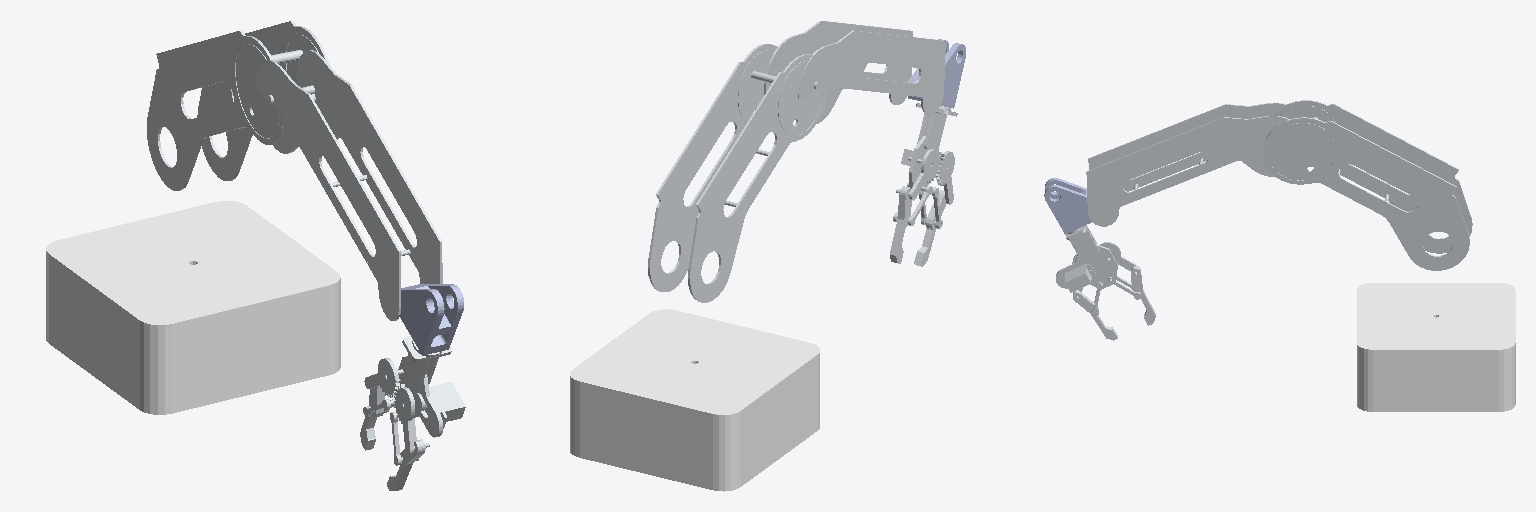
The robot description file, URDF, robot "dobot_magician":

<robot name="dobot_magician">

<!--- ________________________________________________________-->
<!--- ____________________LINK 0 - BASE_LINK__________________-->
<!--- ________________________________________________________--> 

  <link name="base_link">

    <visual>
      <origin xyz="0 0 0" rpy="0 0 0" />
      <geometry>
       <mesh filename="package://dobot_magician_pkg/meshes/Dobot_magician_DAE/base.dae"/>
      </geometry>
      <material name="Aluminum 6061">
        <color  rgba="1 1 1 1" />
      </material>
    </visual>

    <inertial>
      <origin xyz="0 0 0" rpy="0 0 0" />
      <mass   value="3.913" />
      <inertia ixx="0.0085988" ixy="9.7318E-20" ixz="6.3149E-19" iyy="0.014441" iyz="-5.4725E-20" izz="0.0085988" />
    </inertial>
    
    <collision>
      <origin xyz="0 0 0" rpy="0 0 0" />
      <geometry>
         <mesh filename="package://dobot_magician_pkg/meshes/Dobot_magician_DAE/base.dae"/>
      </geometry>
    </collision>

  </link>

<!--- ________________________________________________________-->
<!--- ____________________JOINT-BASE__________________________-->
<!--- ________________________________________________________--> 

<joint name="joint_base" type="revolute">

    <origin xyz="0 0 0" rpy="0 0 0" />
    <parent link="base_link" />
    <child  link="sub_base_link_1" />
    <axis   xyz="0 0 1" />
    <limit effort="0" velocity="0.1" lower="-3.18" upper="3.18"/>

  </joint>

<!--- ________________________________________________________-->
<!--- ____________________SUB-BASE-LINK 1_____________________-->
<!--- ________________________________________________________--> 

  <link name="sub_base_link_1">

    <visual>
      <origin xyz="0 0 0.037" rpy="0 0 0" />
      <geometry>
       <mesh filename="package://dobot_magician_pkg/meshes/Dobot_magician_DAE/sub_base_link_1.dae"/>
      </geometry>
      <material name="Aluminum 6061">
        <color  rgba="1 0 0 1" />
      </material>
    </visual>   

    <inertial>
      <origin xyz="0 0.005 0" rpy="0 0 0" />
      <mass   value="0.30307" />
      <inertia ixx="0.00027735" ixy="1.3133E-19" ixz="-5.0822E-21" iyy="0.00054731" iyz="-4.6255E-20" izz="0.00027502" />
    </inertial>    

    <collision>
      <origin xyz="7.0899E-17 0.005 2.3801E-17" rpy="0 0 0"  />
      <geometry>
         <mesh filename="package://dobot_magician_pkg/meshes/Dobot_magician_DAE/sub_base_link_1.dae"/>
      </geometry>
    </collision>

  </link>

<!--- ________________________________________________________-->
<!--- ____________________JOINT 1_____________________________-->
<!--- ________________________________________________________--> 

  <joint name="joint_1" type="fixed">

    <origin xyz="0 0 0.097" rpy="0 0 1.55" />
    <parent link="sub_base_link_1" />
    <child  link="link_1_1" />
    <axis   xyz="0 1 0" />
    <limit  effort="0" velocity="0" />

  </joint>

<!--- ________________________________________________________-->
<!--- ____________________LINK 1______________________________-->
<!--- ________________________________________________________--> 


  <link name="link_1_1">

    <visual>
      <origin xyz="0 0.01 0.035" rpy="0 0 0" />
      <geometry>
        <mesh filename="package://dobot_magician_pkg/meshes/Dobot_magician_DAE/link_1.dae"/>
      </geometry>
      <material name="Aluminum 6061">
        <color  rgba="0.89804 0.91765 0.92941 1" />
      </material>
    </visual>

    <inertial>
      <origin xyz="0.08 0.038621 0.0044984" rpy="0 0 0" />
      <mass   value="0.096048" />
      <inertia ixx="0.00011245" ixy="-2.2324E-13" ixz="-1.3696E-12" iyy="3.1935E-05" iyz="7.8821E-06" izz="0.00013863" />
    </inertial>    

    <collision>
      <origin xyz="0 0 0" rpy="0 0 0" />
      <geometry>
        <mesh filename="package://dobot_magician_pkg/meshes/Dobot_magician_DAE/link_1.dae"/>
      </geometry>
    </collision>

  </link>

<!--- ________________________________________________________-->
<!--- ____________________JOINT 2_____________________________-->
<!--- ________________________________________________________--> 

  <joint name="joint_2" type="revolute">

    <origin xyz="0 0 0.026" rpy="0 0 0" />
    <parent link="link_1_1" />
    <child  link="link_2" />
    <axis   xyz="0 1 0" />
    <limit effort="0" velocity="0" lower="-2.18" upper="-0.65"/>

   </joint>

<!--- ________________________________________________________-->
<!--- ____________________LINK 2______________________________-->
<!--- ________________________________________________________--> 

   <link name="link_2">

    
   <visual>
      <origin xyz="0 -0.0745 0" rpy="0 1 0" />
      <geometry>
          <mesh filename="package://dobot_magician_pkg/meshes/Dobot_con_gripper/Link_2.dae"/>
      </geometry>
      <material name="Aluminum 6061">
        <color  rgba="0.89804 0.91765 0.92941 1" />
      </material>
    </visual>

   <inertial>
      <origin xyz="-0.021209 0.001 -0.0829" rpy="0 0 0" />
      <mass   value="0.057165" />
      <inertia ixx="0.00021101" ixy="-6.7763E-21" ixz="-1.2446E-05" iyy="0.00023578" iyz="-4.1822E-20" izz="2.4809E-05" />
    </inertial>   

    <collision>
      <origin xyz="0 0 0" rpy="0 0 0" />
      <geometry>
          <mesh filename="package://dobot_magician_pkg/meshes/Dobot_magician_DAE/link_2.dae"/>
      </geometry>
    </collision>

  </link>

<!--- ________________________________________________________-->
<!--- ____________________JOINT 3_____________________________-->
<!--- ________________________________________________________--> 

<joint name="joint_3" type="revolute">

    <origin xyz="0.065 0.0135 0.16" rpy="0 2 0" />
    <parent link="link_2" />
    <child  link="link_3" />
    <axis   xyz="0 1 0" />
    <limit effort="0" velocity="0" lower="-2.18" upper="-1.26"/>

  </joint>

<!--- ________________________________________________________-->
<!--- ____________________LINK 3______________________________-->
<!--- ________________________________________________________--> 


<link name="link_3">

    
    <visual>
      <origin xyz="0 0 0" rpy="0 0 0" />
      <geometry>
        <mesh filename="package://dobot_magician_pkg/meshes/Dobot_con_gripper/Link_3.dae"/>
      </geometry>
      <material name="Aluminum 6061">
        <color  rgba="0.89804 0.91765 0.92941 1" />
      </material>
    </visual>

    <inertial>
      <origin xyz="0.074376 0.016081 0.003" rpy="0 0 0" />
      <mass   value="0.055855" />
      <inertia ixx="2.0397E-05" ixy="-2.481E-05" ixz="-5.0657E-20" iyy="0.0002562" iyz="-7.6233E-21" izz="0.00027655" />
    </inertial>    

    <collision>
      <origin xyz="0 0 0" rpy="0 0 0" />
      <geometry>
    <mesh filename="package://dobot_magician_pkg/meshes/Dobot_magician_DAE/link_3.dae"/>
      </geometry>
    </collision>

  </link>

<!--- ________________________________________________________-->
<!--- ____________________JOINT 4_____________________________-->
<!--- ________________________________________________________--> 

<joint name="joint_4" type="revolute">

    <origin xyz="-0.135 -0.0005 0.12" rpy="0 -1 0" />
    <parent link="link_3" />
    <child  link="link_4" />
    <axis   xyz="0 1 0" />
    <limit effort="0" velocity="0" lower="1.30" upper="2.01"/>

  </joint>

<!--- ________________________________________________________-->
<!--- ____________________LINK 4______________________________-->
<!--- ________________________________________________________--> 

<link name="link_4">
    
    <visual>
      <origin xyz="0 -0.005 0" rpy="1.55 0 3.15" />
      <geometry>
        <mesh filename="package://dobot_magician_pkg/meshes/Dobot_magician_DAE/link_4.dae"/>
      </geometry>
      <material name="Aluminum 6061">
        <color  rgba="0.79216 0.81961 0.93333 1" />
      </material>
    </visual>

    <inertial>
      <origin xyz="0.018456 0.017513 0.01" rpy="0 0 0" />
      <mass value="0.022983" />
      <inertia ixx="4.329E-06" ixy="-1.0614E-06" ixz="7.5439E-22" iyy="4.7894E-06" iyz="6.6174E-22" izz="7.1397E-06" />
    </inertial>    

    <collision>
      <origin xyz="0 0 0" rpy="0 0 0" />
      <geometry>
        <mesh filename="package://dobot_magician_pkg/meshes/Dobot_magician_DAE/link_4.dae"/>
      </geometry>
    </collision>

  </link>




<!--- ________________________________________________________-->
<!--- ____________________JOINT 1_2___________________________-->
<!--- ________________________________________________________-->
 
   <joint  name="joint_1_2" type="fixed">

    <origin xyz="0 0 0.097" rpy="0 0 -1.55" />
    <parent link="sub_base_link_1" />
    <child  link="link_1_2" />
    <axis xyz="0 1 0" />
    <limit effort="0" velocity="0" />

  </joint>

<!--- ________________________________________________________-->
<!--- ____________________LINK 1_2____________________________-->
<!--- ________________________________________________________--> 
   
  <link name="link_1_2">
    
     <visual>
      <origin xyz="0 0.01 0.035" rpy="0 0 0" />
      <geometry>
        <mesh filename="package://dobot_magician_pkg/meshes/Dobot_magician_DAE/link_1.dae"/>
      </geometry>
      <material name="Aluminum 6061">
        <color rgba="1 1 0 1" />
      </material>
    </visual>

    <inertial>
      <origin xyz="-0.08 0.038621 0.0044984" rpy="0 0 0" />
      <mass   value="0.096048" />
      <inertia ixx="0.00011245" ixy="-2.2324E-13" ixz="-1.3696E-12" iyy="3.1935E-05" iyz="7.8821E-06" izz="0.00013863" />
    </inertial>   

    <collision>
      <origin xyz="0 0 0" rpy="0 0 0" />
      <geometry>
        <mesh filename="package://dobot_magician_pkg/meshes/Dobot_magician_DAE/link_1.dae"/>
      </geometry>
    </collision>

  </link>



<!--- ________________________________________________________-->
<!--- ____________________JOINT SERVO_1_______________________-->
<!--- ________________________________________________________-->

   <joint name="joint_servo_1" type="fixed">

    <origin xyz="0 0 0.02" rpy="0 0 0" />
    <parent link="link_1_1" />
    <child link="servo_1" />
    <axis xyz="0 1 0" />
    <limit effort="0" velocity="0" lower="-2.18" upper="-0.31"/>

  </joint>

<!--- ________________________________________________________-->
<!--- ____________________LINK SERVO_1________________________-->
<!--- ________________________________________________________--> 

  <link name="servo_1">

   <visual>
      <origin xyz="0 -0.01 0" rpy="1.55 0 0" />
      <geometry>
        <mesh filename="package://dobot_magician_pkg/meshes/Dobot_magician_DAE/servo.dae"/>
      </geometry>
      <material name="Aluminum 6061">
        <color rgba="0.89804 0.91765 0.92941 1" />
      </material>
    </visual>

    <inertial>
      <origin xyz="0.08 0.038621 0.0044984" rpy="0 0 0" />
      <mass value="0.096048" />
      <inertia ixx="0.00011245" ixy="-2.2324E-13" ixz="-1.3696E-12" iyy="3.1935E-05" iyz="7.8821E-06" izz="0.00013863" />
    </inertial>   

    <collision>
      <origin xyz="0 0 0" rpy="0 0 0" />
      <geometry>
        <mesh filename="package://dobot_magician_pkg/meshes/Dobot_magician_DAE/servo.dae"/>
      </geometry>
    </collision>

  </link>

<!--- ________________________________________________________-->
<!--- ____________________JOINT SERVO_2_______________________-->
<!--- ________________________________________________________-->


  <joint name="joint_servo_2" type="fixed">

    <origin xyz="0 0 0.02" rpy="0 0 0" />
    <parent link="link_1_2" />
    <child link="servo_2" />
    <axis xyz="0 1 0" />
    <limit effort="0" velocity="0" lower="-2.18" upper="-0.31"/>

  </joint>

<!--- ________________________________________________________-->
<!--- ____________________LINK SERVO_2________________________-->
<!--- ________________________________________________________--> 

  <link name="servo_2">

   <visual>
      <origin xyz="0 -0.01 0" rpy="1.55 0 0" />
      <geometry>
        <mesh filename="package://dobot_magician_pkg/meshes/Dobot_magician_DAE/servo.dae"/>
      </geometry>
      <material name="Aluminum 6061">
        <color rgba="0.89804 0.91765 0.92941 1" />
      </material>
    </visual>

    <inertial>
      <origin xyz="0.08 0.038621 0.0044984" rpy="0 0 0" />
      <mass value="0.096048" />
      <inertia ixx="0.00011245" ixy="-2.2324E-13" ixz="-1.3696E-12" iyy="3.1935E-05" iyz="7.8821E-06" izz="0.00013863" />
    </inertial>    

    <collision>
      <origin xyz="0 0 0" rpy="0 0 0" />
      <geometry>
        <mesh filename="package://dobot_magician_pkg/meshes/Dobot_magician_DAE/servo.dae"/>
      </geometry>
    </collision>

  </link>

<!--- ________________________________________________________-->
<!--- ____________________JOINT GRIPPER_______________________-->
<!--- ________________________________________________________-->

<joint name="joint_gripper" type="revolute">

    <origin xyz="-0.036 0 -0.04" rpy="0 0 0" />
    <parent link="link_4" />
    <child link="Gripper_joint" />
    <axis xyz="0 0 1" />
    <limit effort="0" velocity="0" lower="-3.18" upper="3.18"/>

  </joint>

<!--- ________________________________________________________-->
<!--- ____________________GRIPPER_____________________________-->
<!--- ________________________________________________________--> 

  <link name="Gripper_joint">

   <visual>
      <origin xyz="0 0 0.037" rpy="0 0 0" />
      <geometry>
        <mesh filename="package://dobot_magician_pkg/meshes/Dobot_magician_DAE/Gripper_part_1.dae"/>
      </geometry>
      <material name="Aluminum 6061">
        <color rgba="0.89804 0.91765 0.92941 1" />
      </material>
    </visual>

    <inertial>
      <origin xyz="0.08 0.038621 0.0044984" rpy="0 0 0" />
      <mass value="0.096048" />
      <inertia ixx="0.00011245" ixy="-2.2324E-13" ixz="-1.3696E-12" iyy="3.1935E-05" iyz="7.8821E-06" izz="0.00013863" />
    </inertial>    

    <collision>
      <origin xyz="0 0 0" rpy="0 0 0" />
      <geometry>
        <mesh filename="package://dobot_magician_pkg/meshes/Dobot_magician_DAE/Gripper_part_1.dae"/>
      </geometry>
    </collision>

  </link>

<!--- ________________________________________________________-->
<!--- ____________________JOINT GRIPPER_______________________-->
<!--- ________________________________________________________-->

<joint name="Gripper" type="revolute">

    <origin xyz="0.013 0.01 -0.012" rpy="0 0 0" />
    <parent link="Gripper_joint" />
    <child link="Gripper_left" />
    <axis xyz="0 1 0" />
    <limit effort="0" velocity="0" lower="-0.30" upper="0.19"/>

  </joint>

<!--- ________________________________________________________-->
<!--- ____________________GRIPPER LEFT_____________________________-->
<!--- ________________________________________________________--> 

  <link name="Gripper_left">

   <visual>
      <origin xyz="0 0 0" rpy="0 0 0" />
      <geometry>
        <mesh filename="package://dobot_magician_pkg/meshes/Dobot_magician_DAE/Gripper_left.dae"/>
      </geometry>
      <material name="Aluminum 6061">
        <color rgba="0.89804 0.91765 0.92941 1" />
      </material>
    </visual>

    <inertial>
      <origin xyz="0.08 0.038621 0.0044984" rpy="0 0 0" />
      <mass value="0.096048" />
      <inertia ixx="0.00011245" ixy="-2.2324E-13" ixz="-1.3696E-12" iyy="3.1935E-05" iyz="7.8821E-06" izz="0.00013863" />
    </inertial>    

    <collision>
      <origin xyz="0 0 0" rpy="0 0 0" />
      <geometry>
        <mesh filename="package://dobot_magician_pkg/meshes/Dobot_magician_DAE/Gripper_left.dae"/>
      </geometry>
    </collision>

  </link>

<!--- ________________________________________________________-->
<!--- ____________________JOINT GRIPPER_______________________-->
<!--- ________________________________________________________-->

<joint name="Gripper_mimic" type="revolute">

    <origin xyz="-0.013 0.01 -0.012" rpy="0 0 0" />
    <parent link="Gripper_joint" />
    <child link="Gripper_right" />
    <axis xyz="0 -1 0" />
    <mimic joint="Gripper" offset="3.1"/>
    <limit effort="0" velocity="0" lower="-1.10" upper="1.30"/>

  </joint>

<!--- ________________________________________________________-->
<!--- ____________________GRIPPER RIGHT_____________________________-->
<!--- ________________________________________________________--> 

  <link name="Gripper_right">

   <visual>
      <origin xyz="0 0 0" rpy="0 0 0" />
      <geometry>
        <mesh filename="package://dobot_magician_pkg/meshes/Dobot_magician_DAE/Gripper_right.dae"/>
      </geometry>
      <material name="Aluminum 6061">
        <color rgba="0.89804 0.91765 0.92941 1" />
      </material>
    </visual>

    <inertial>
      <origin xyz="0.08 0.038621 0.0044984" rpy="0 0 0" />
      <mass value="0.096048" />
      <inertia ixx="0.00011245" ixy="-2.2324E-13" ixz="-1.3696E-12" iyy="3.1935E-05" iyz="7.8821E-06" izz="0.00013863" />
    </inertial>    

    <collision>
      <origin xyz="0 0 0" rpy="0 0 0" />
      <geometry>
        <mesh filename="package://dobot_magician_pkg/meshes/Dobot_magician_DAE/Gripper_right.dae"/>
      </geometry>
    </collision>

  </link>





<!--- ___________________________________DESCRIPTION END________________________________________________________ -->

<!--- ___________________________________DESCRIPTION DOBOT MAGICIAN_____________________________________________ -->
<!--- _DANIEL_TOBON_COLLAZOS_2126550_____________________________________________________________________________-->

  
</robot>

--- What the picture shows (computed from the rendered views, not written in the file) ---
Views: 3 orthographic renders of the robot side by side, from view 1: azimuth 30°, elevation 25°; view 2: azimuth 150°, elevation 25°; view 3: azimuth 270°, elevation 25°.
Model dobot_magician with 12 links and 11 joints (7 revolute, 4 fixed), rooted at base_link, posed all joints at 0 but 3 set to mid-range because 0 is outside their limits (joint_2 = -1.42, joint_3 = -1.72, joint_4 = 1.66, Gripper_mimic = 3.1).
Visible links, largest first — view 1: base_link, link_3, link_2, link_4, Gripper_joint, Gripper_right, Gripper_left; view 2: base_link, link_2, link_3, Gripper_left, Gripper_right, Gripper_joint, link_4; view 3: base_link, link_2, link_3, Gripper_joint, link_4, Gripper_left, Gripper_right.
Link boxes in pixels (left/top/right/bottom): base_link: left=46, top=201, right=340, bottom=414; link_3: left=255, top=50, right=442, bottom=320; link_2: left=147, top=21, right=329, bottom=190; link_4: left=400, top=284, right=463, bottom=355; Gripper_joint: left=390, top=335, right=465, bottom=437; Gripper_right: left=387, top=384, right=429, bottom=490; Gripper_left: left=360, top=358, right=400, bottom=450; base_link: left=570, top=309, right=819, bottom=491; link_2: left=648, top=44, right=826, bottom=302; link_3: left=764, top=21, right=945, bottom=123; Gripper_left: left=890, top=149, right=941, bottom=263; Gripper_right: left=914, top=151, right=954, bottom=266; Gripper_joint: left=901, top=103, right=957, bottom=194; link_4: left=907, top=39, right=965, bottom=108; base_link: left=1357, top=283, right=1515, bottom=411; link_2: left=1263, top=100, right=1472, bottom=270; link_3: left=1086, top=103, right=1289, bottom=226; Gripper_joint: left=1056, top=225, right=1117, bottom=292; link_4: left=1044, top=178, right=1091, bottom=234; Gripper_left: left=1100, top=242, right=1155, bottom=325; Gripper_right: left=1072, top=254, right=1117, bottom=340.
Bounding box of the posed robot: 0.15 × 0.4451 × 0.2802 m (x, y, z).
Meshes: 10 distinct files referenced, 7 mesh visuals loaded (7 Collada DAE); not drawn: 5 (reference not matched to a file when rendering).
